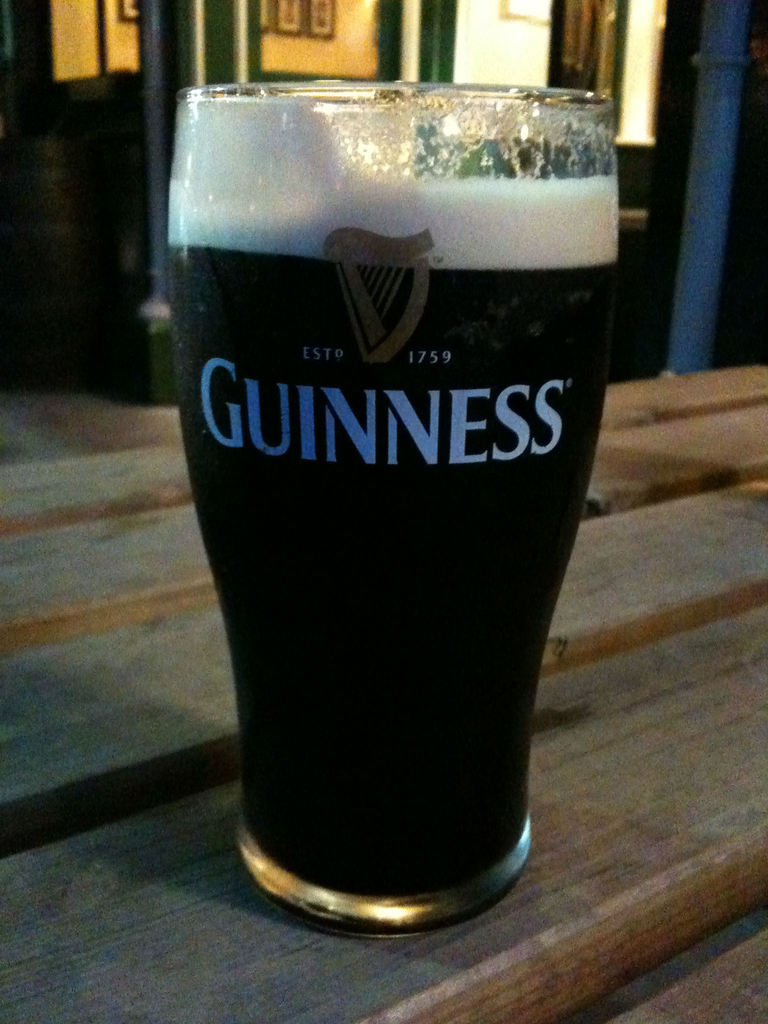Beer: (166, 79, 618, 941)
